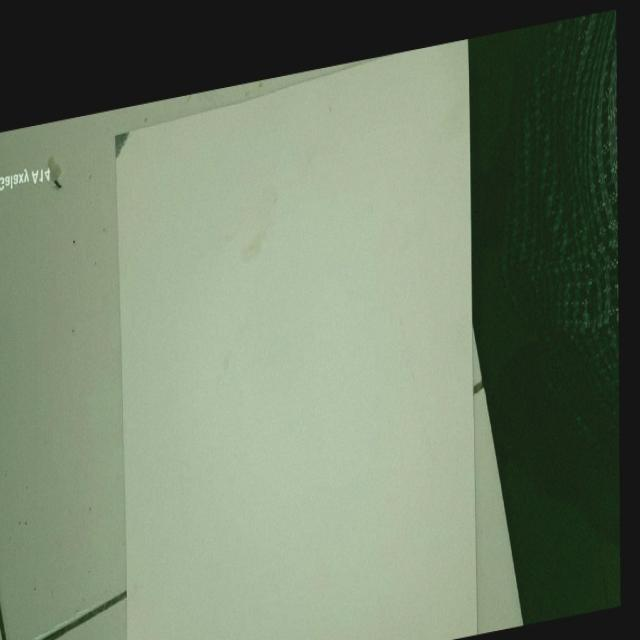TLC Plate: (115, 72, 477, 640)
